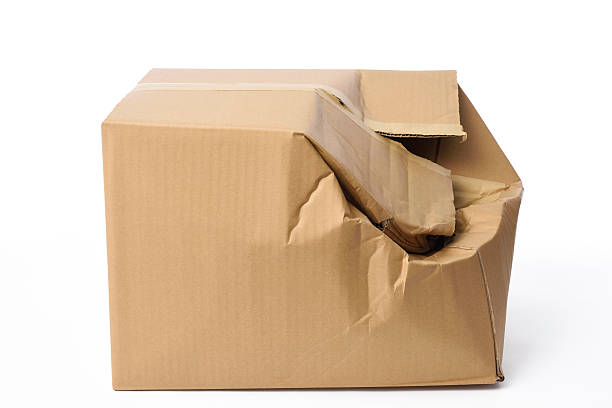damaged package: (300, 86, 525, 294), (398, 79, 512, 168)
